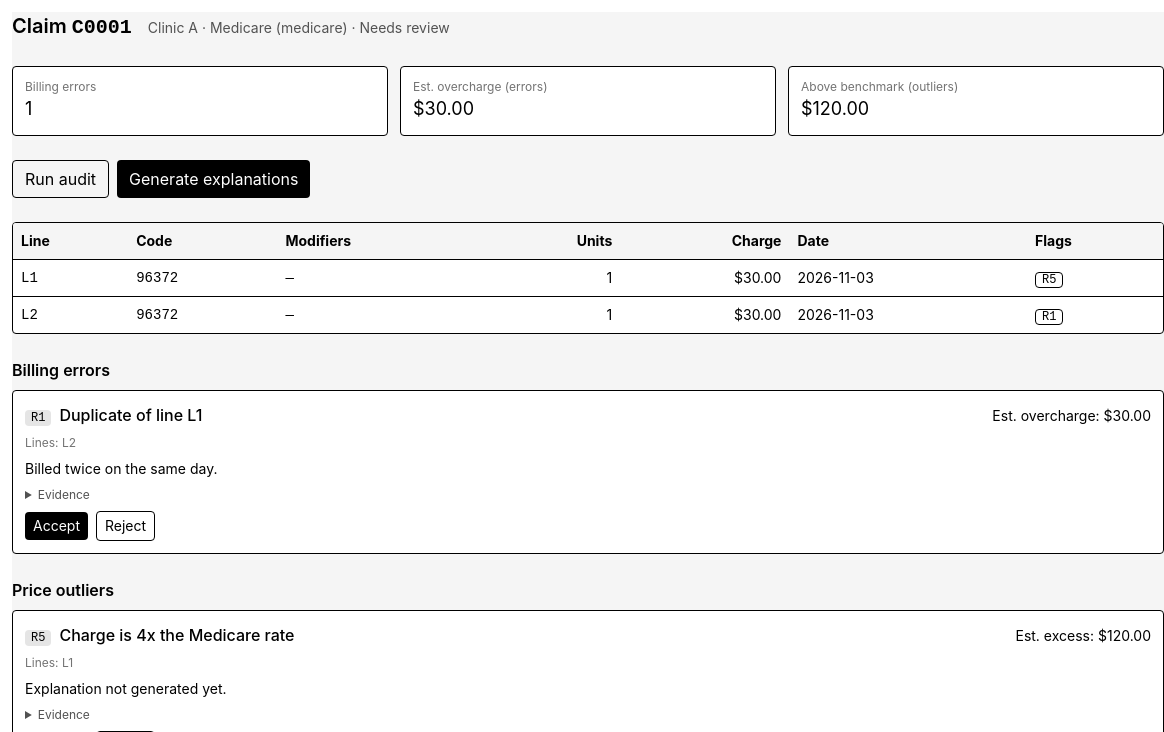
Scenario: streams explanations, shows progress result and reloads
Click the button "Generate explanations".
click(214, 179)  # box [117, 160, 310, 198]
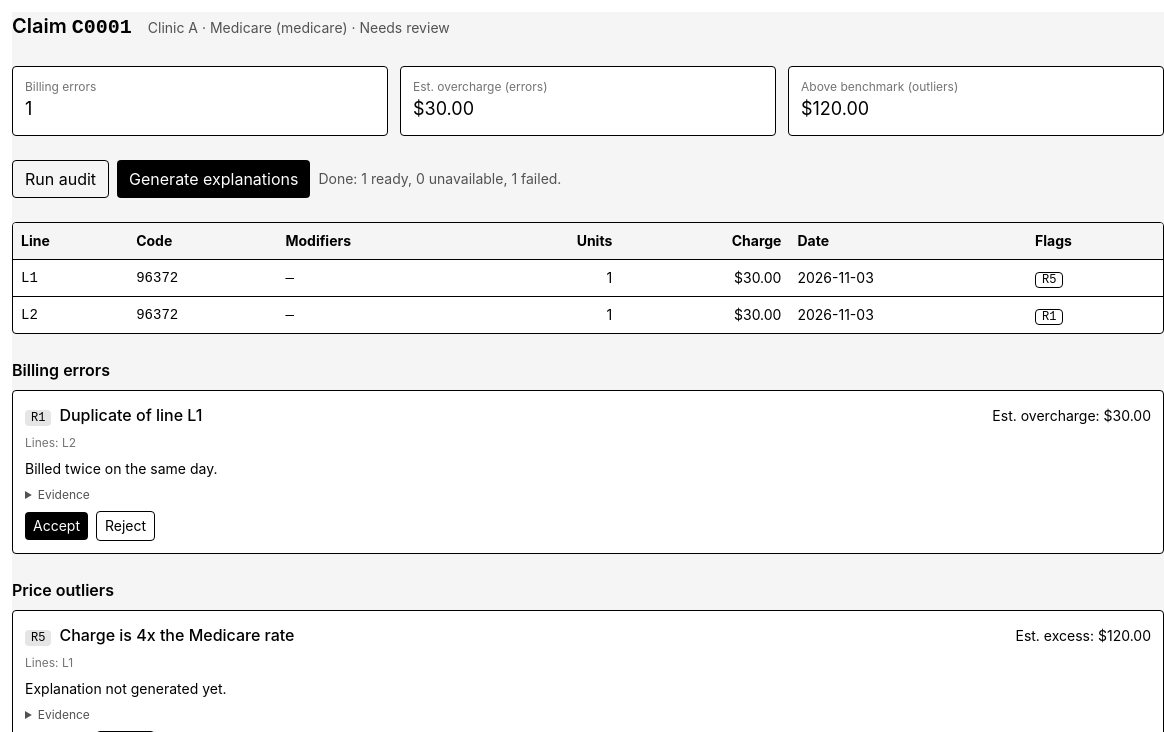
Result: the text "Done: 1 ready, 0 unavailable, 1 failed." is shown at [318, 169, 561, 189]
